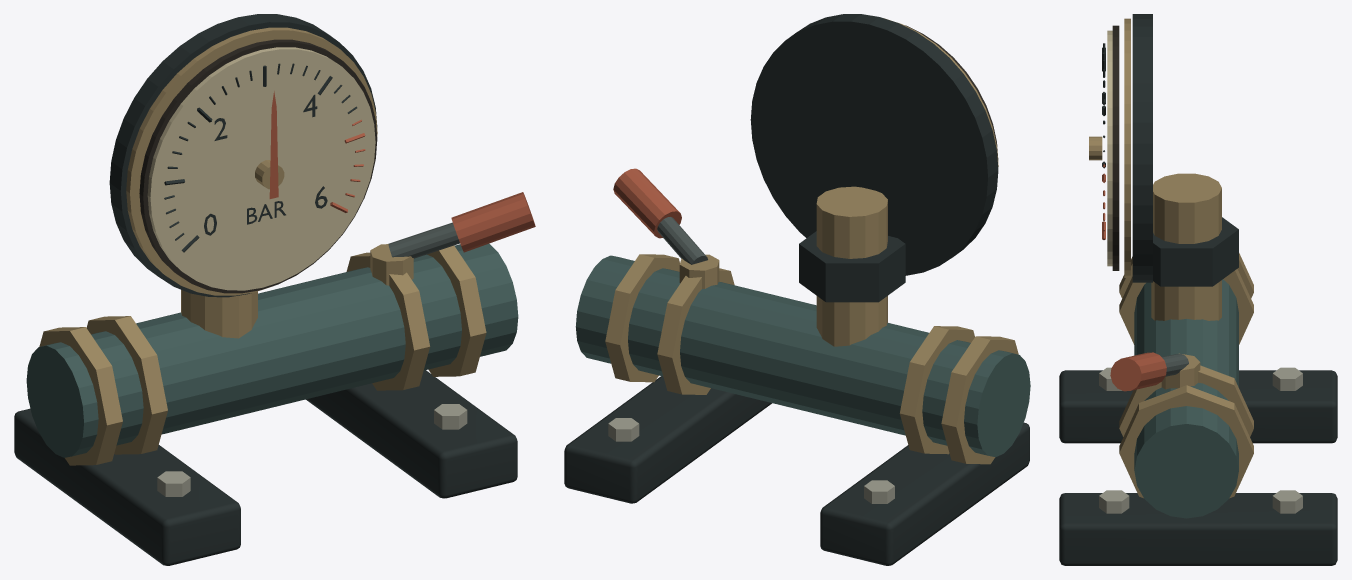
Rendered from station-pressure.glb.
3 renders of one model, left to right at view 1: azimuth 30°, elevation 25°; view 2: azimuth 150°, elevation 25°; view 3: azimuth 270°, elevation 25°, orthographic. The views are drawn at different scales.
Visible parts, largest first — view 1: Housing, Mechanism; view 2: Housing; view 3: Housing.
Part boxes in pixels (left/top/right/bottom): Housing: left=14, top=14, right=535, bottom=565; Mechanism: left=255, top=91, right=284, bottom=198; Housing: left=564, top=14, right=1030, bottom=565; Housing: left=1059, top=14, right=1337, bottom=565.
Size of the model in its own units: 0.2788 by 0.2878 by 0.165.
